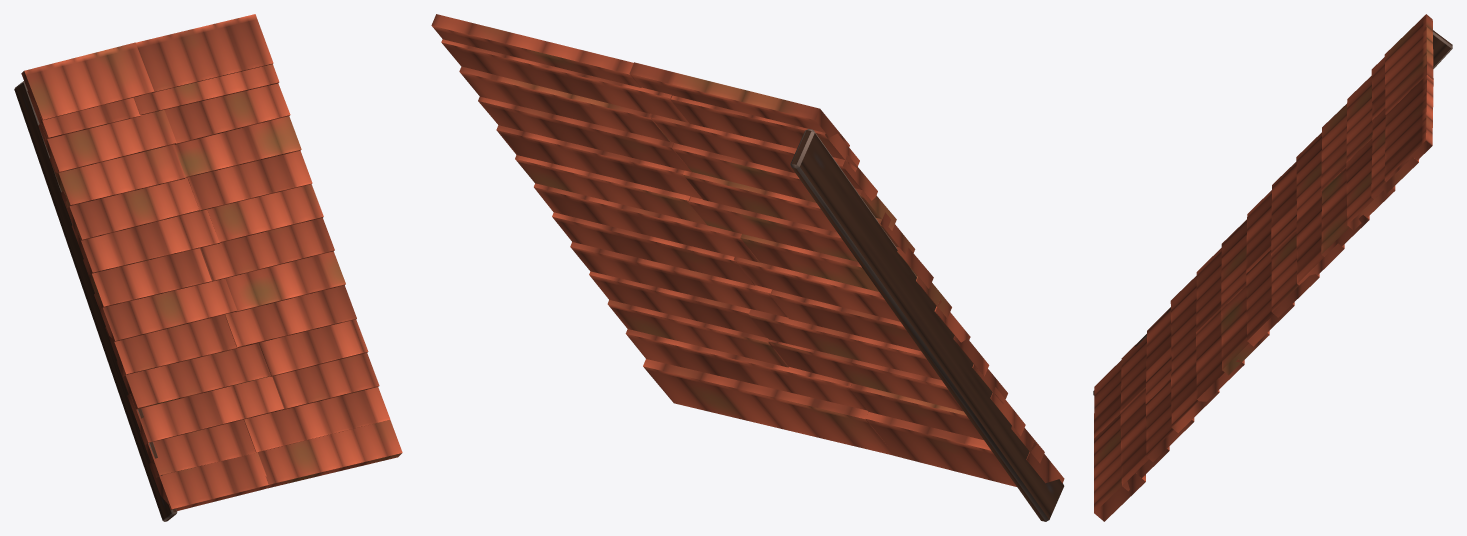
Rendered from SM_Mod_Roof_Tile_4m_EndL.gltf.
3 views of the same model, side by side, from view 1: azimuth 30°, elevation 25°; view 2: azimuth 150°, elevation 25°; view 3: azimuth 270°, elevation 25° (orthographic). The views are drawn at different scales.
Parts seen in each view (by area): view 1: SM_Mod_Roof_Tile_4m_EndL; view 2: SM_Mod_Roof_Tile_4m_EndL; view 3: SM_Mod_Roof_Tile_4m_EndL.
Boxes of the visible parts, x1,y1,x2,y2 form: SM_Mod_Roof_Tile_4m_EndL: [14, 14, 402, 521]; SM_Mod_Roof_Tile_4m_EndL: [431, 14, 1064, 521]; SM_Mod_Roof_Tile_4m_EndL: [1093, 14, 1452, 521].
Bounding box in the file's own units: 2.37 × 3.44 × 2.84.
1 material, 1 textured.
